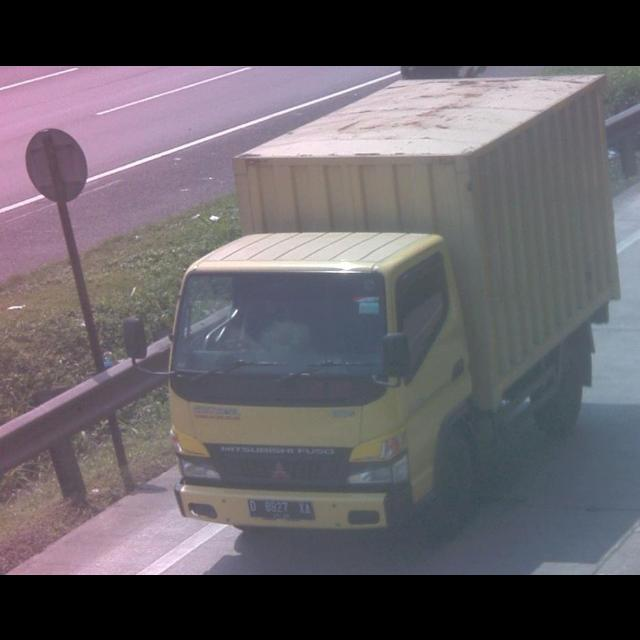plate: (246, 495, 317, 522)
